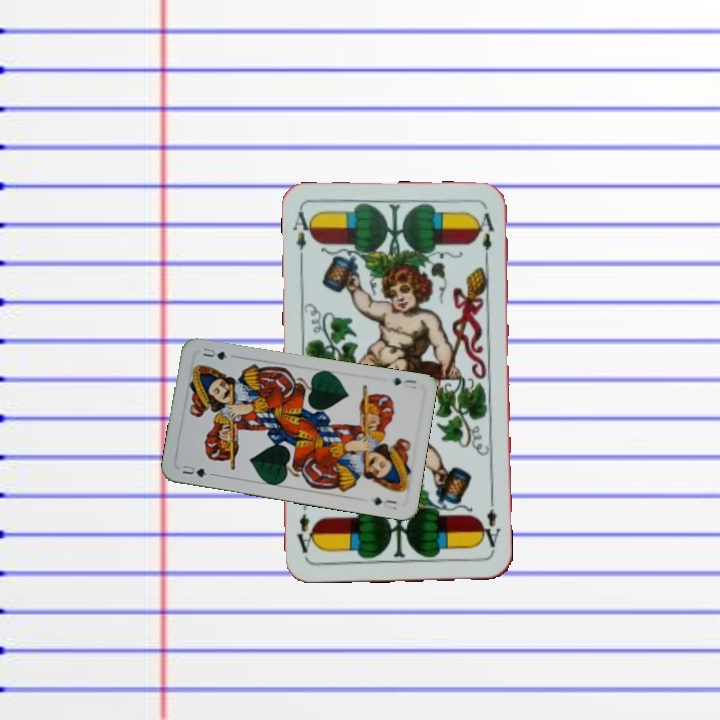EA: (288, 207, 316, 266), (476, 496, 503, 555)
GU: (178, 461, 209, 480), (390, 374, 419, 391)
